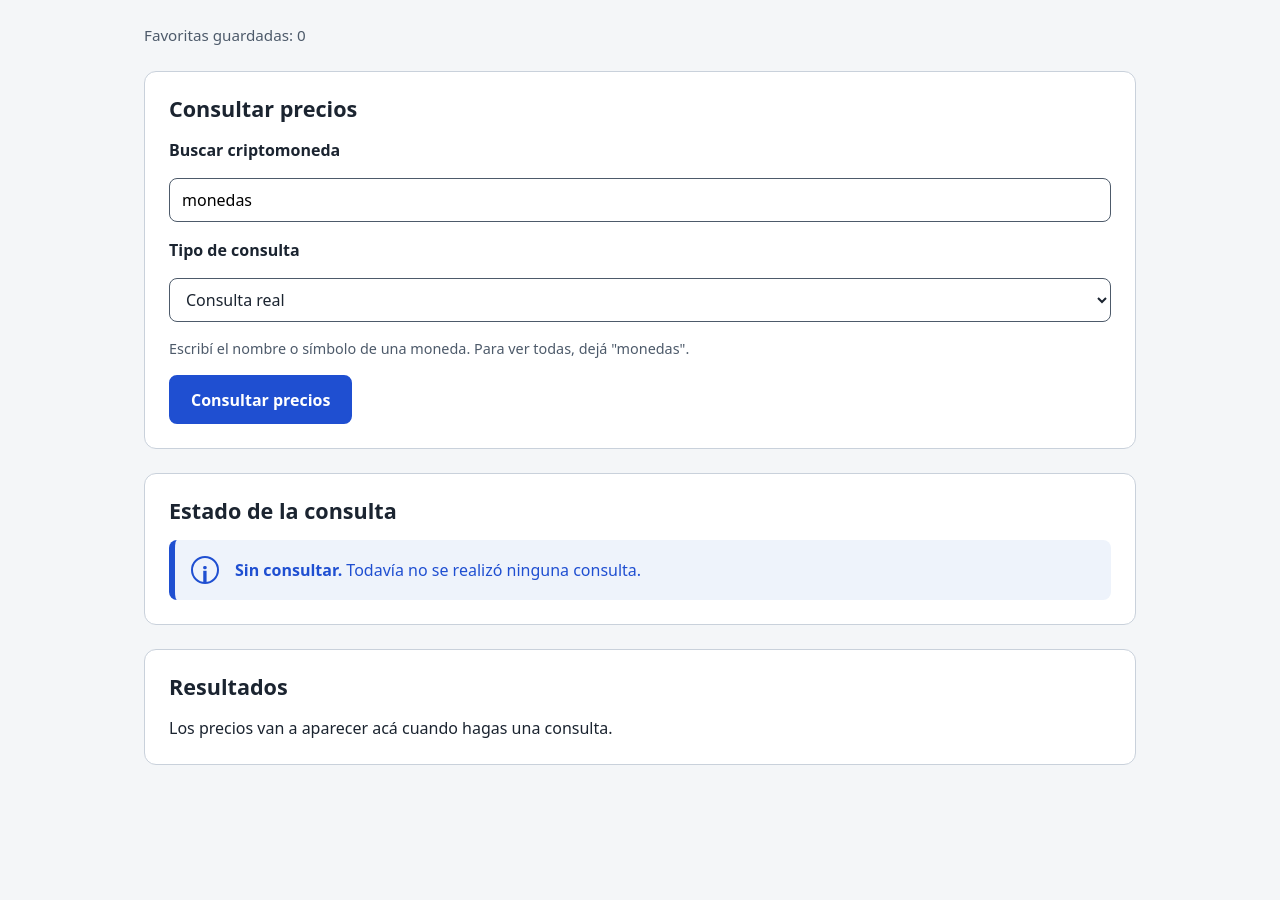
Test case: Consulta de precios › muestra resultados después de consultar
What coordinates should you click on to do the following:
click the button "Consultar precios"
I would click on:
 (261, 400)
Its box is x1=169 y1=375 x2=352 y2=424.
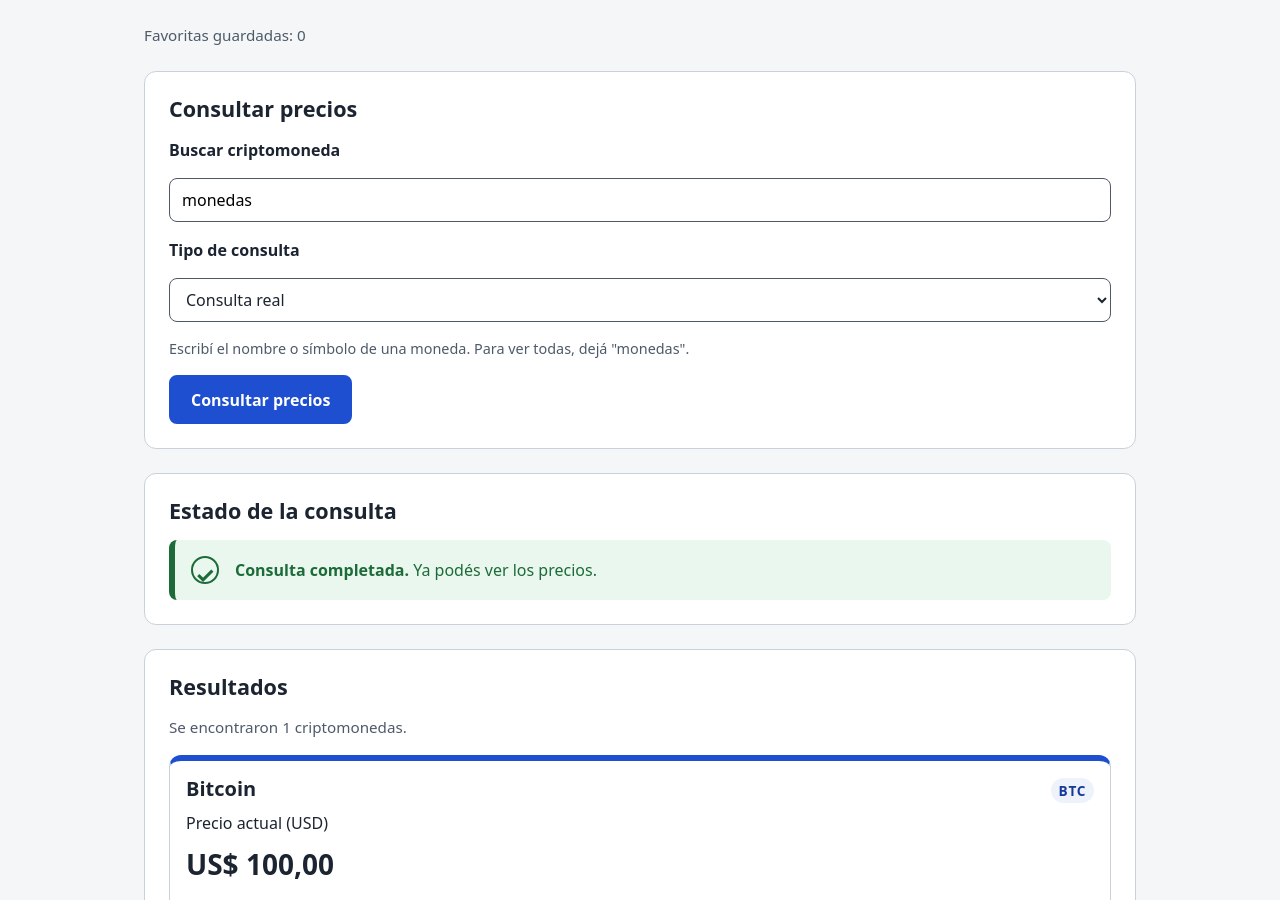
Result: the text "Se encontraron 1 criptomonedas." is shown at x1=169 y1=717 x2=407 y2=737
